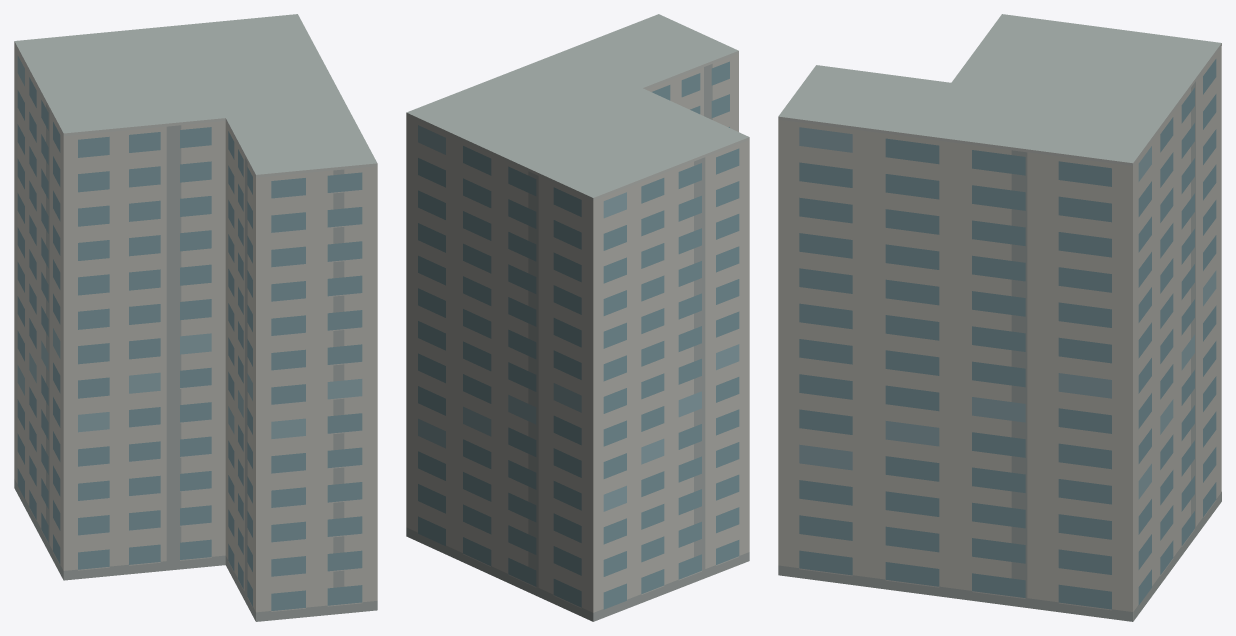
The model's file is residential-89acdd82-cadc-4a9b-866d-4ce48a7efa4f.glb.
The picture shows the model from 3 angles, left to right: view 1: azimuth 30°, elevation 25°; view 2: azimuth 150°, elevation 25°; view 3: azimuth 270°, elevation 25°; orthographic projection. The views are drawn at different scales.
Parts seen in each view (by area): view 1: residential-89acdd82-cadc-4a9b-866d-4ce48a7efa4f.tmp; view 2: residential-89acdd82-cadc-4a9b-866d-4ce48a7efa4f.tmp; view 3: residential-89acdd82-cadc-4a9b-866d-4ce48a7efa4f.tmp.
Boxes of the visible parts, <box> form: residential-89acdd82-cadc-4a9b-866d-4ce48a7efa4f.tmp: <box>14,14,377,621</box>; residential-89acdd82-cadc-4a9b-866d-4ce48a7efa4f.tmp: <box>406,14,749,621</box>; residential-89acdd82-cadc-4a9b-866d-4ce48a7efa4f.tmp: <box>778,14,1221,621</box>.
Bounding box in the file's own units: 25.83 × 37 × 32.44.
